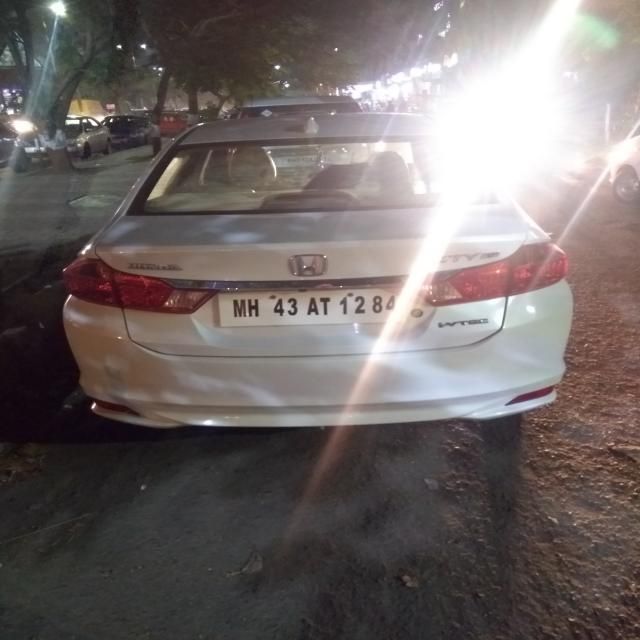Number-Plate: (224, 286, 395, 325)
